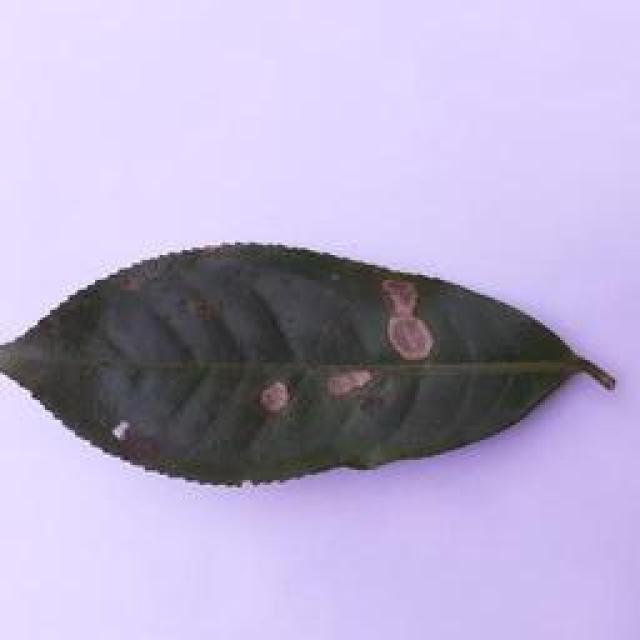Gray Blight: (0, 234, 615, 485)
